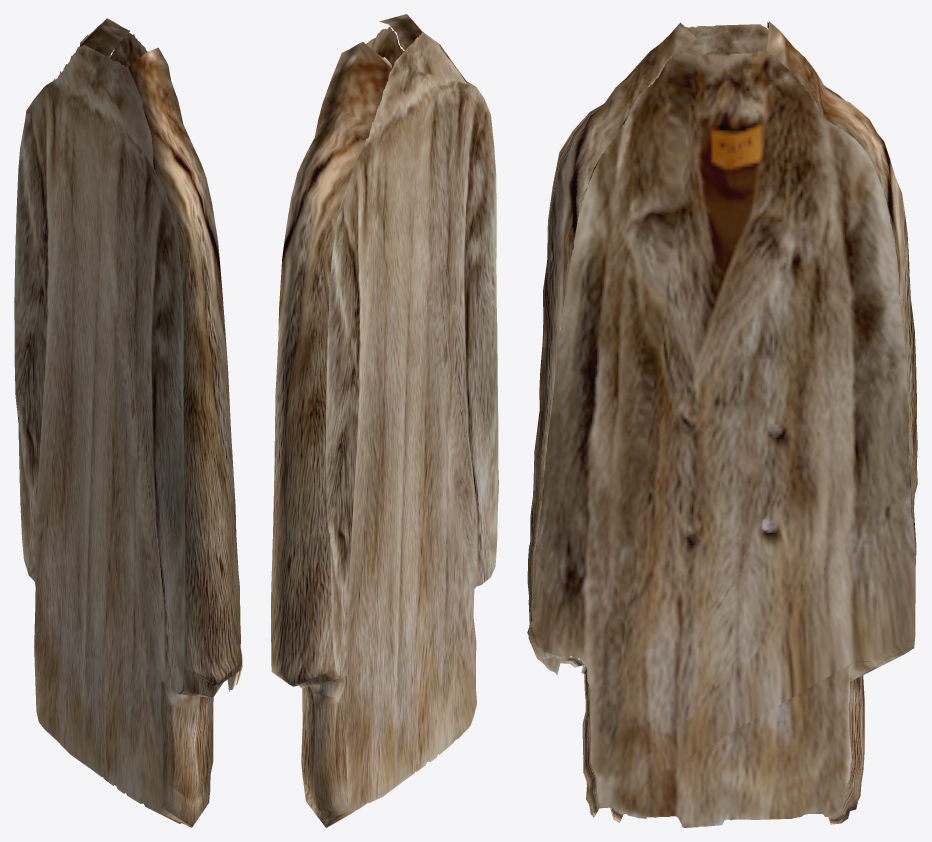
The model's file is Coat Prefab.fbx.
The picture shows the model from 3 angles, left to right: view 1: azimuth 30°, elevation 25°; view 2: azimuth 150°, elevation 25°; view 3: azimuth 270°, elevation 25°; orthographic projection. The views are drawn at different scales.
Visible parts, largest first — view 1: Coat; view 2: Coat; view 3: Coat.
Boxes of the visible parts, x1=… form: Coat: x1=14, y1=18, x2=242, y2=827; Coat: x1=271, y1=14, x2=498, y2=827; Coat: x1=527, y1=21, x2=917, y2=827.
Bounding box in the file's own units: 11.24 × 163 × 71.39.
